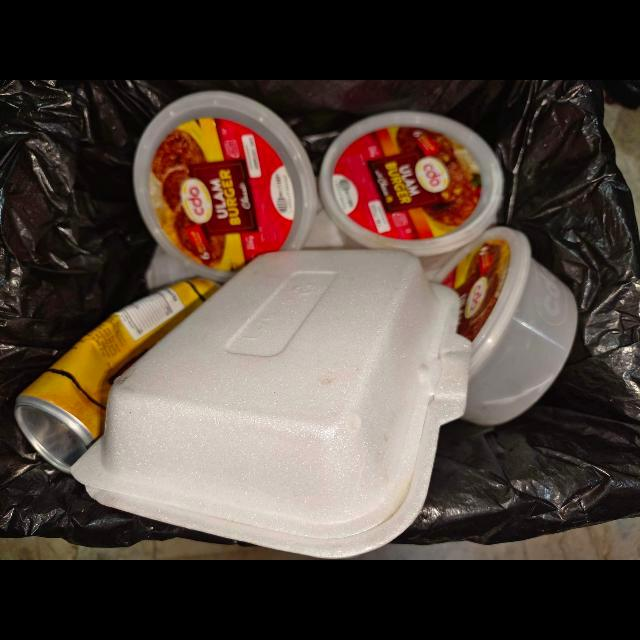aluminum: (13, 275, 230, 476)
plastic_container: (132, 91, 320, 283), (315, 110, 503, 275), (442, 226, 579, 428)
